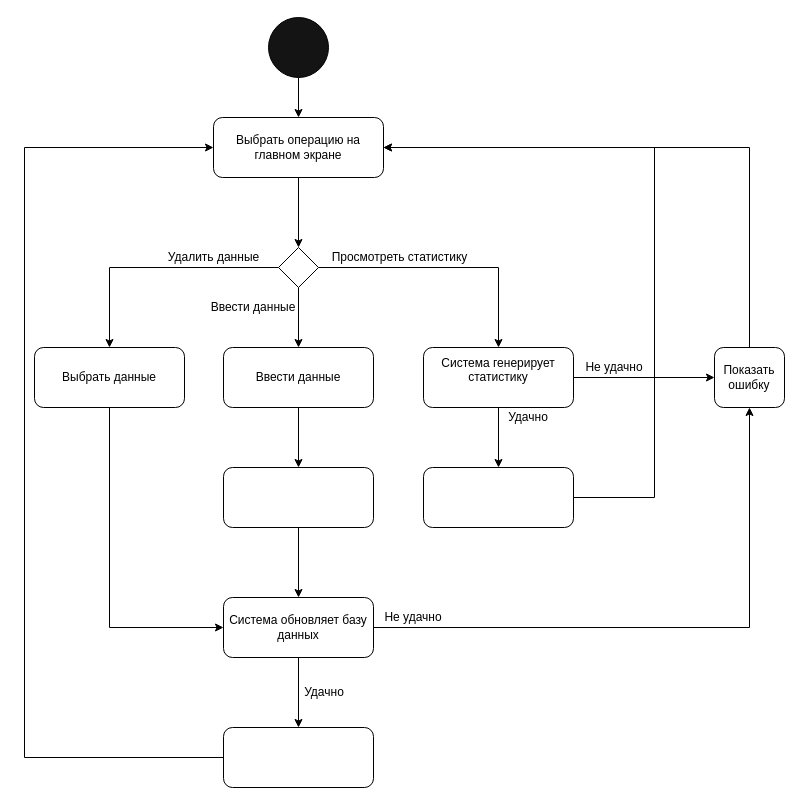
Image size: 802x805. Some labels were removed from this diagram. The box of each missing label's shape, as (x1, y1, x2, y2) in pixels:
Система выводит обновленные данные: (222, 726, 374, 788)
Система выводит статистику: (422, 466, 574, 528)
Система обрабатывает данные: (222, 466, 374, 528)
